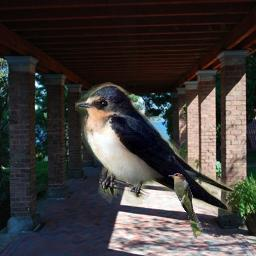Cuckoo: (168, 173, 203, 239)
Swallow: (75, 82, 235, 216)
